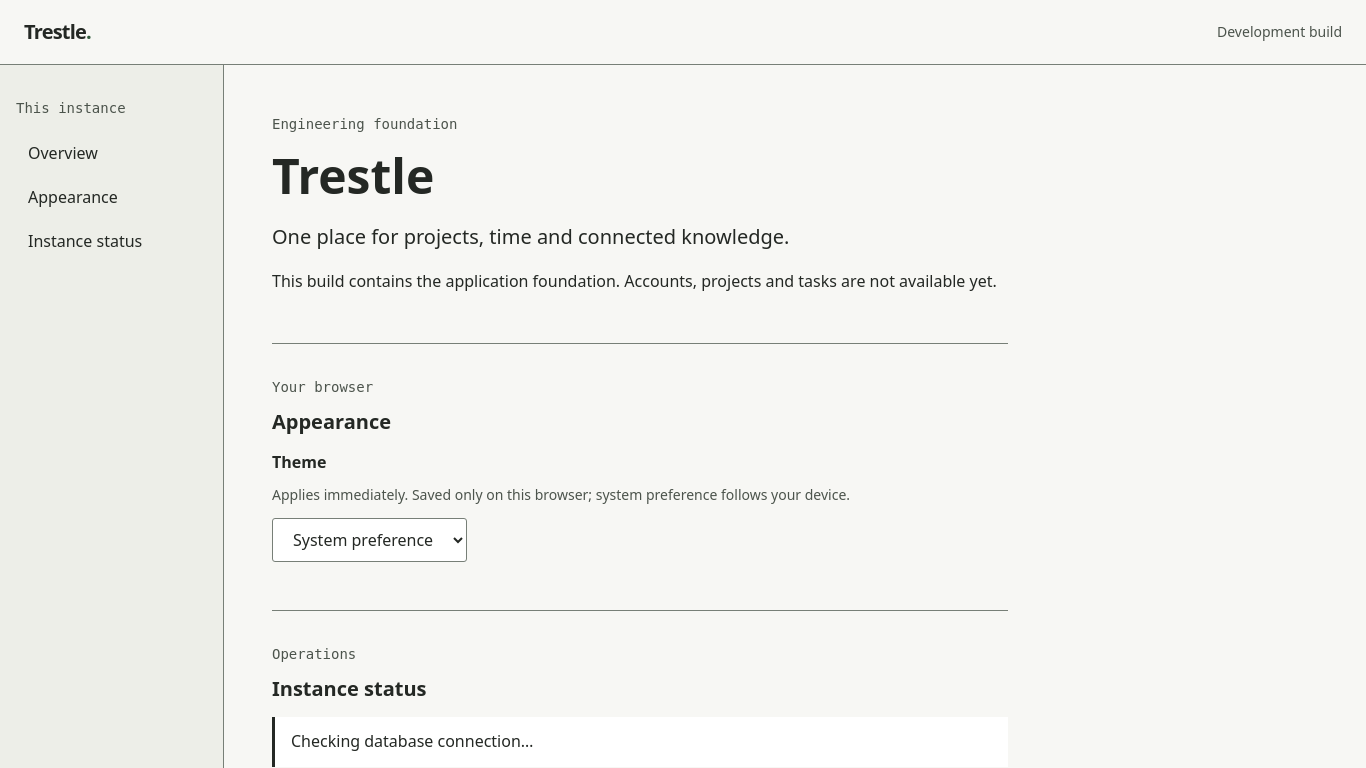
Test: appearance applies and saves a local override through its labelled control
The width and height of the screenshot is (1366, 768).
Select "Dark" in the dropdown labelled "Theme" at (370, 540), box [272,518,467,562]
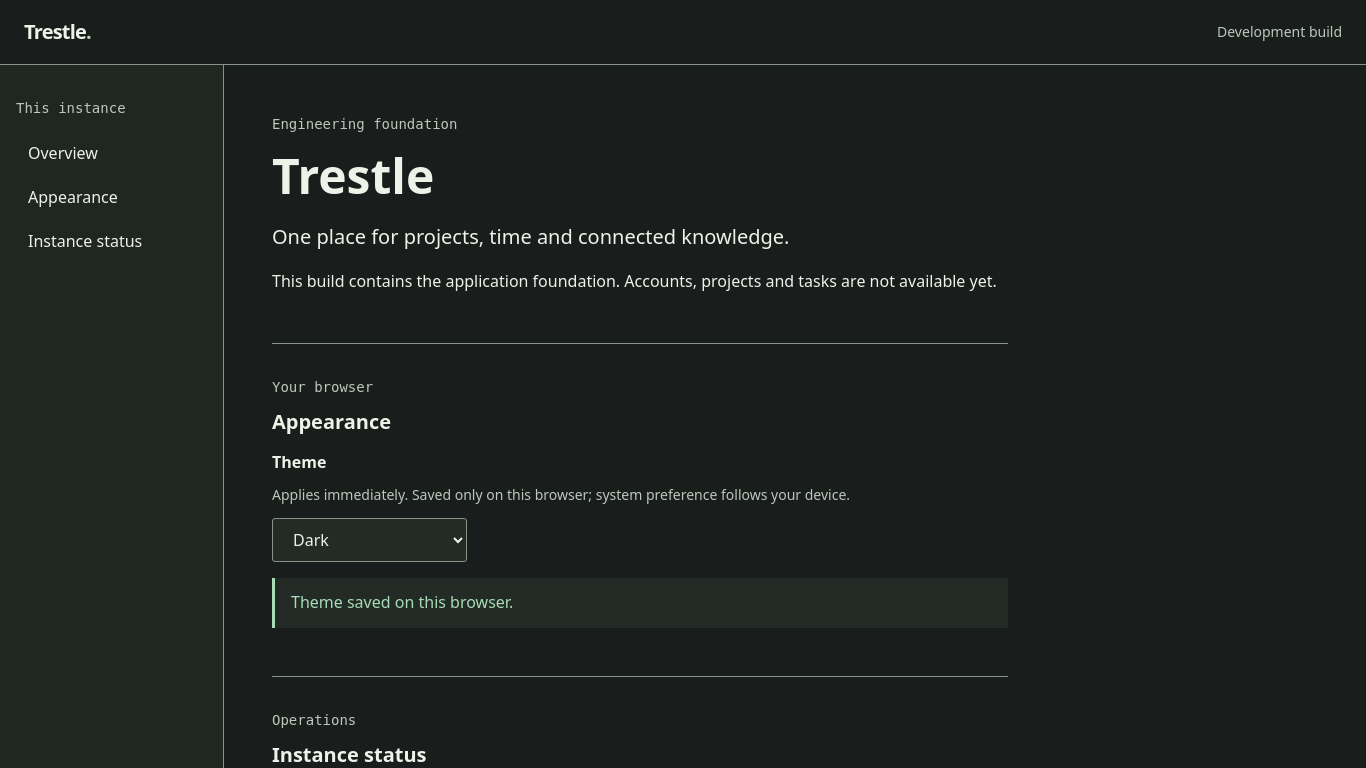
Check: the text "Theme saved on this browser." is shown, box [272,578,1008,628]
